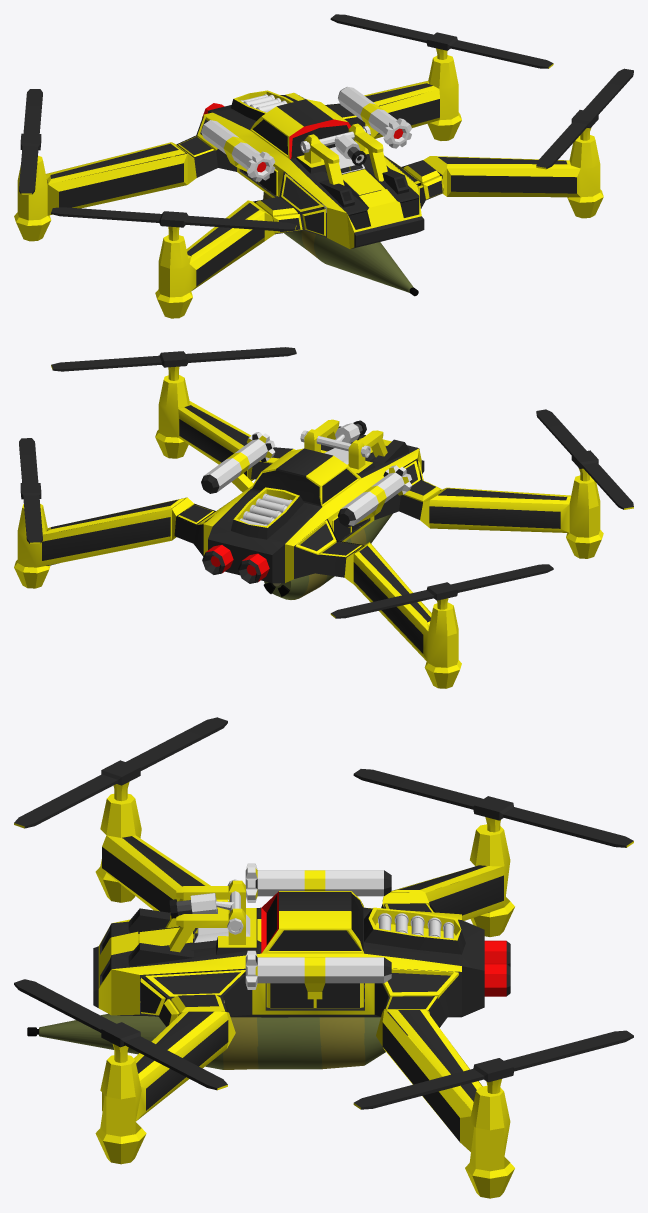
The model's file is RPGBoD002fbx.fbx.
3 views of the same model, one above another, from view 1: azimuth 30°, elevation 25°; view 2: azimuth 150°, elevation 25°; view 3: azimuth 270°, elevation 25° (orthographic). The views are drawn at different scales.
Visible parts, largest first — view 1: Основа (монолит); view 2: Основа (монолит); view 3: Основа (монолит).
Part boxes in pixels (x1,y1,x2,y2): Основа (монолит): (14, 14, 633, 318); Основа (монолит): (14, 347, 633, 688); Основа (монолит): (14, 717, 633, 1198).
Size of the model in its own units: 1240 by 270 by 876.
8 materials, 1 textured.
